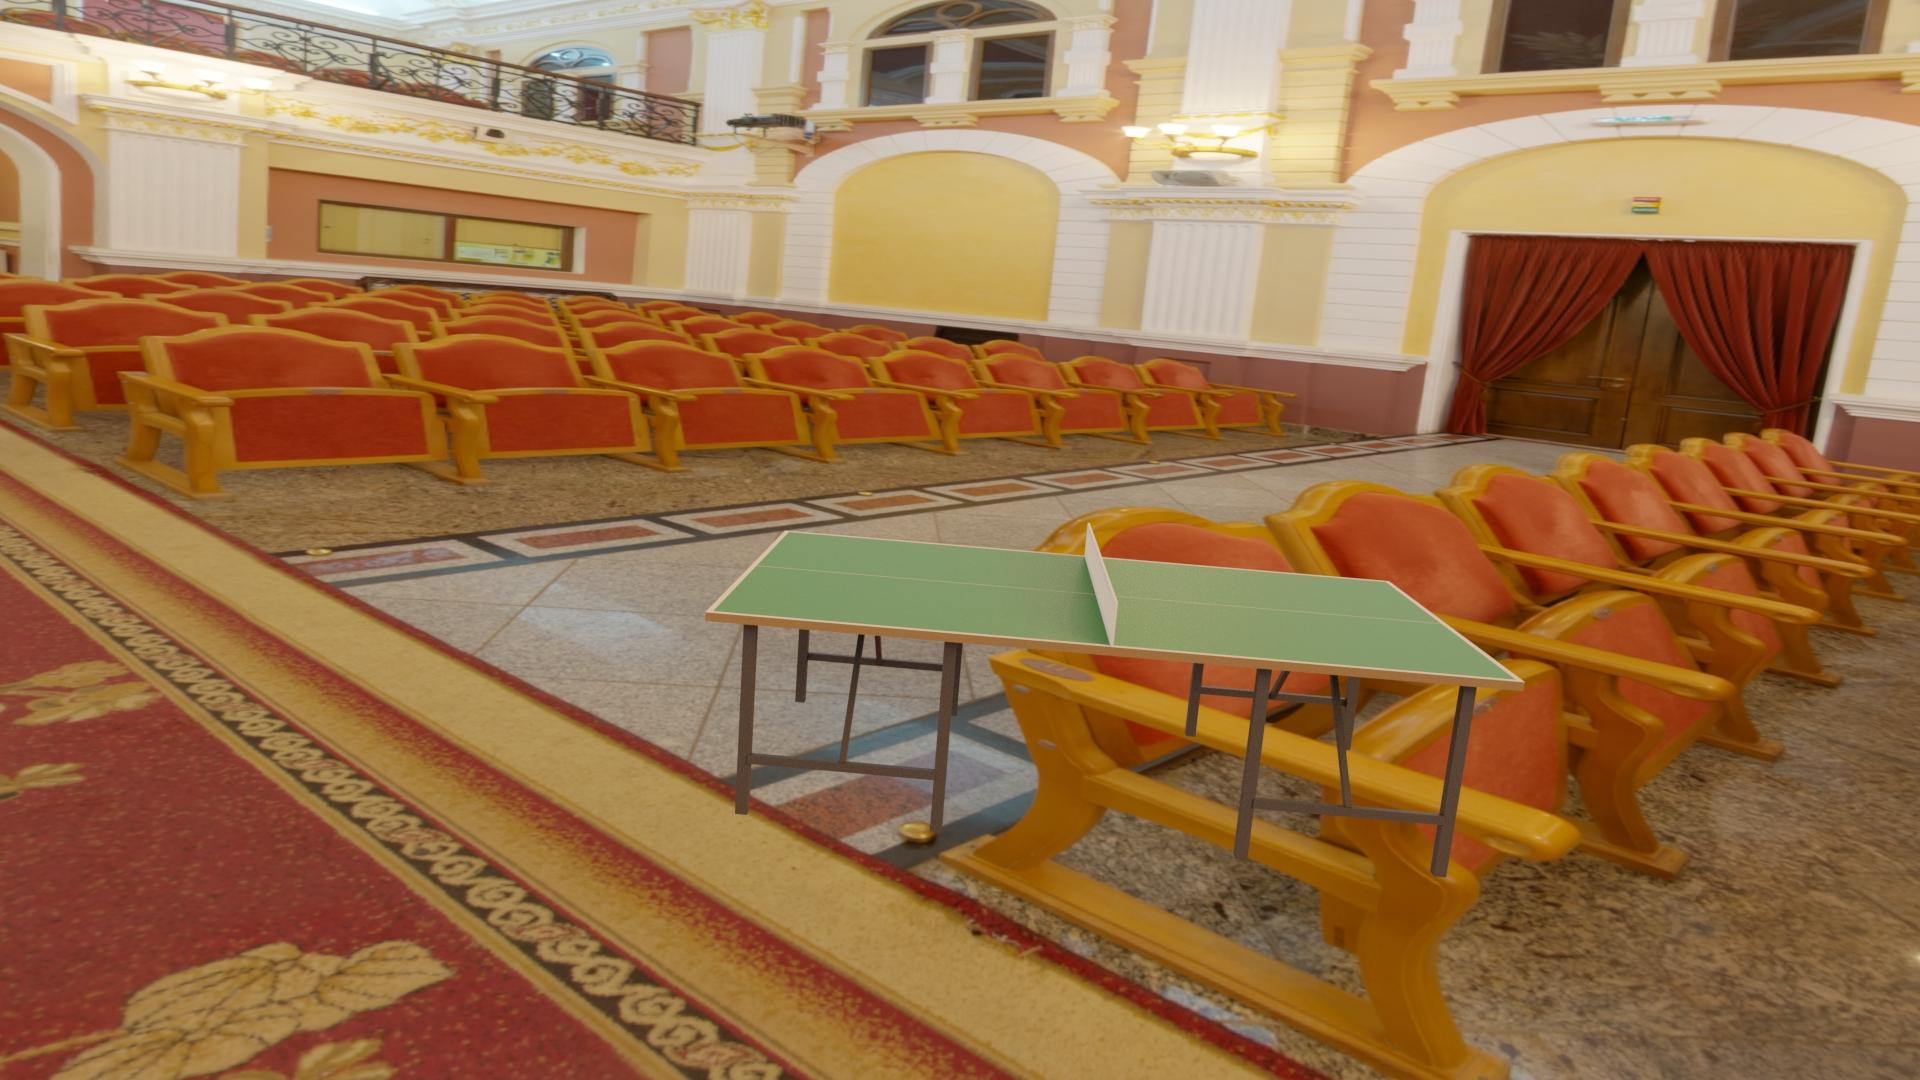table: (713, 531, 1516, 680)
